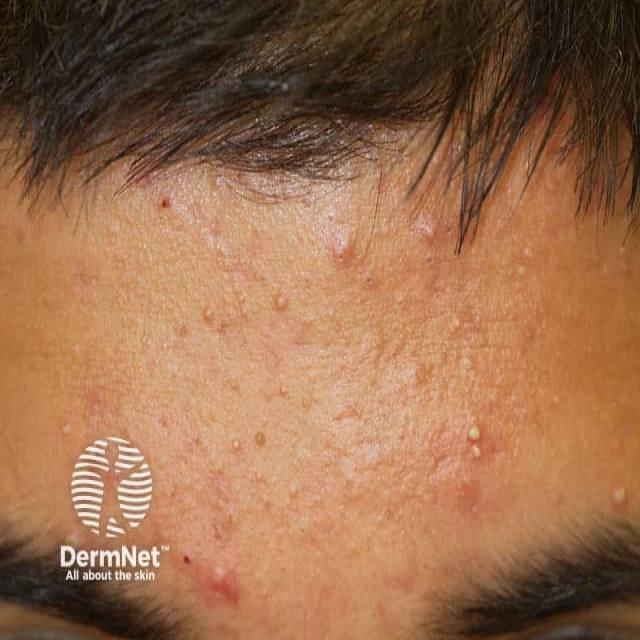fungal: (160, 281, 432, 541)
nodule: (332, 235, 352, 262), (210, 565, 230, 589)
